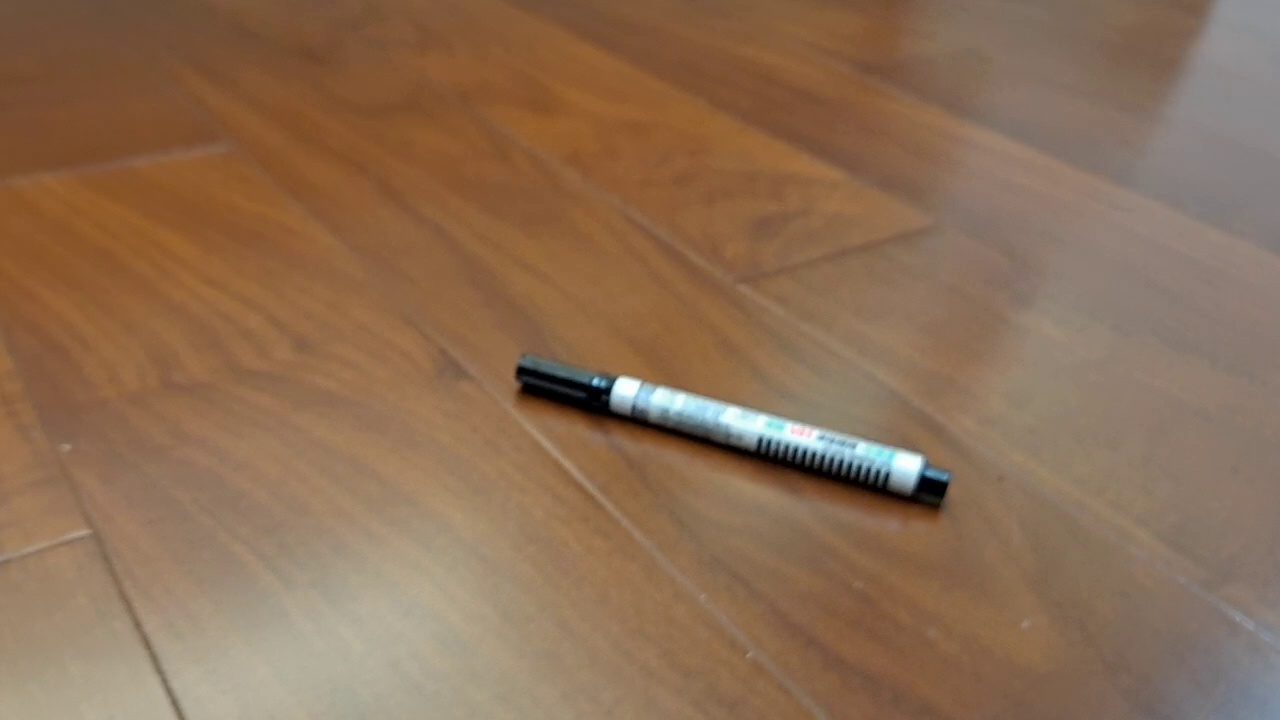pen: (514, 352, 952, 510)
